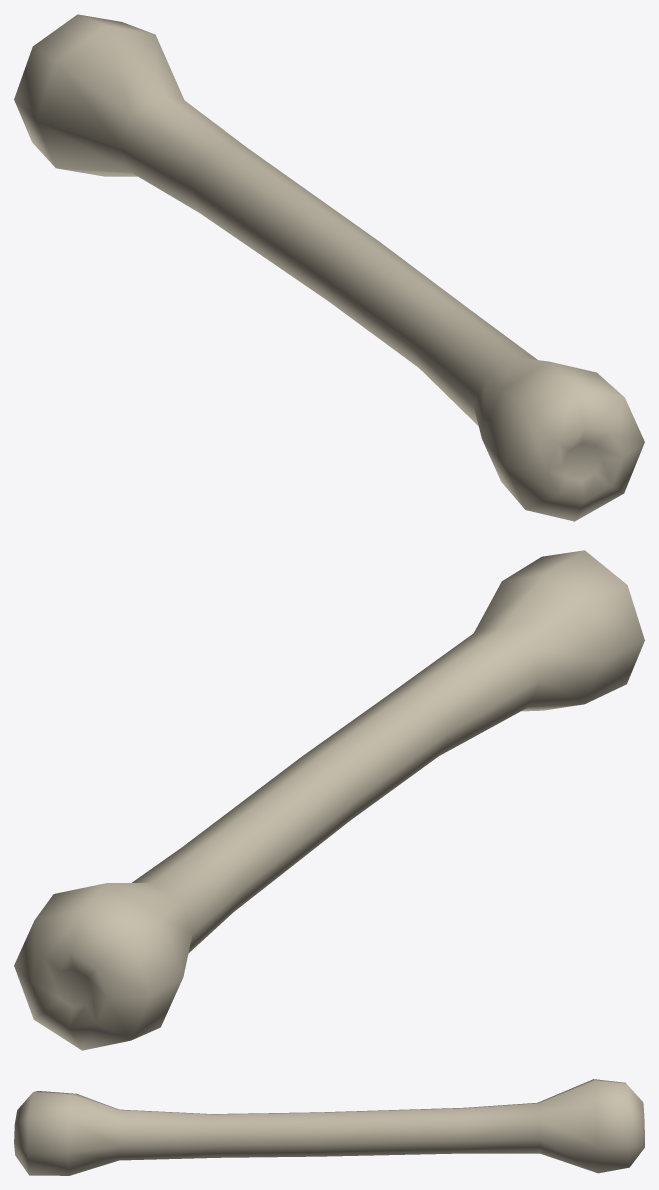
File: Bone_01.fbx
3 renders of one model, top to bottom at view 1: azimuth 30°, elevation 25°; view 2: azimuth 150°, elevation 25°; view 3: azimuth 270°, elevation 25°, orthographic. The views are drawn at different scales.
Parts seen in each view (by area): view 1: Bone_01; view 2: Bone_01; view 3: Bone_01.
Boxes of the visible parts, x1,y1,x2,y2 form: Bone_01: [14, 14, 644, 521]; Bone_01: [14, 550, 644, 1050]; Bone_01: [14, 1079, 644, 1175].
Bounding box in the file's own units: 0.0274 × 0.028 × 0.1723.
